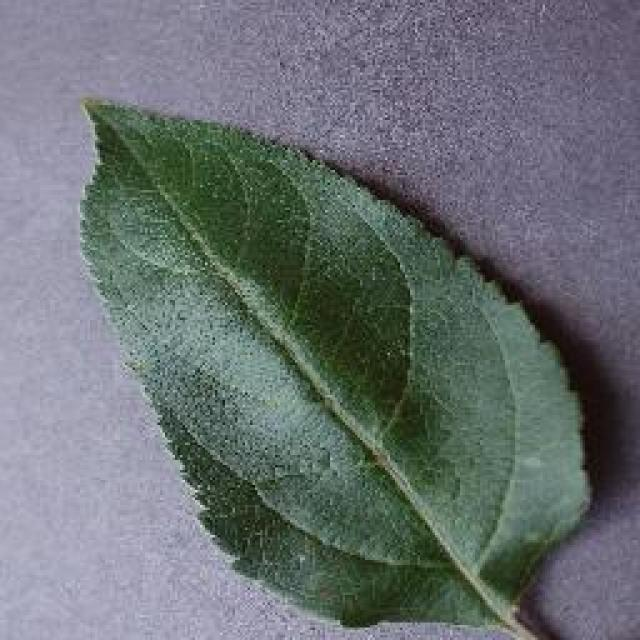apple healthy: (75, 93, 597, 635)
